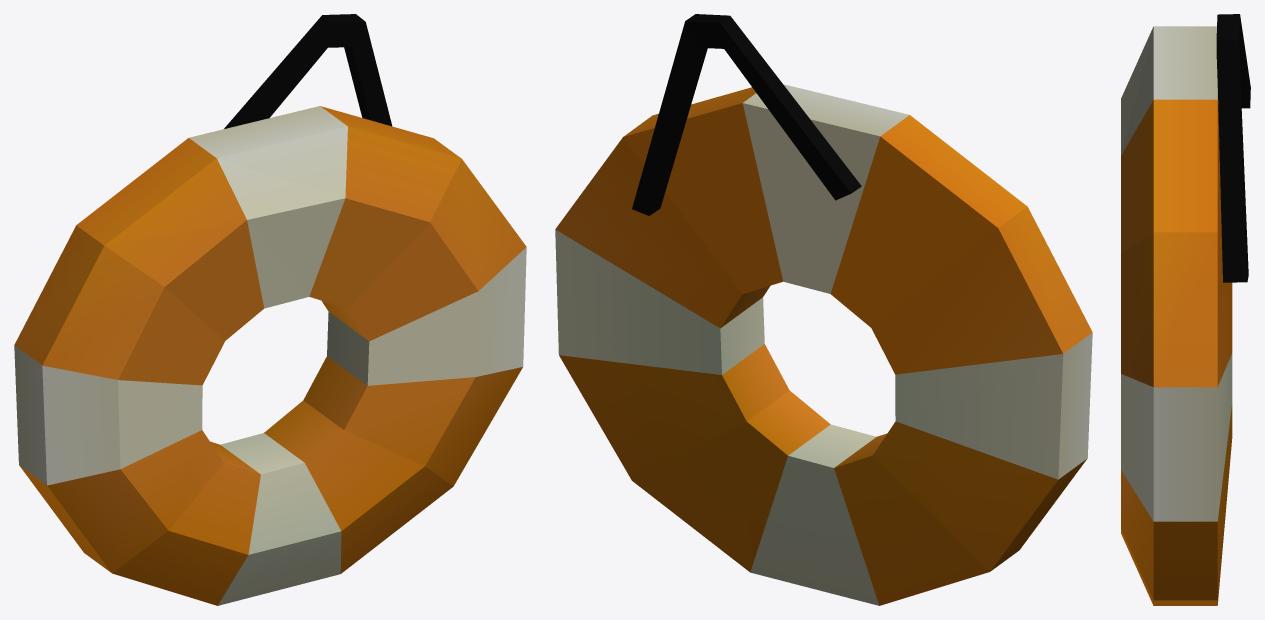
The model's file is LifePreserver_0.glb.
The picture shows the model from 3 angles, left to right: view 1: azimuth 30°, elevation 25°; view 2: azimuth 150°, elevation 25°; view 3: azimuth 270°, elevation 25°; orthographic projection. The views are drawn at different scales.
Visible parts, largest first — view 1: LifePreserver; view 2: LifePreserver; view 3: LifePreserver.
Boxes of the visible parts, x1,y1,x2,y2 form: LifePreserver: (14, 14, 526, 605); LifePreserver: (555, 14, 1092, 605); LifePreserver: (1121, 14, 1250, 605).
Bounding box in the file's own units: 0.3306 × 0.3447 × 0.067.
